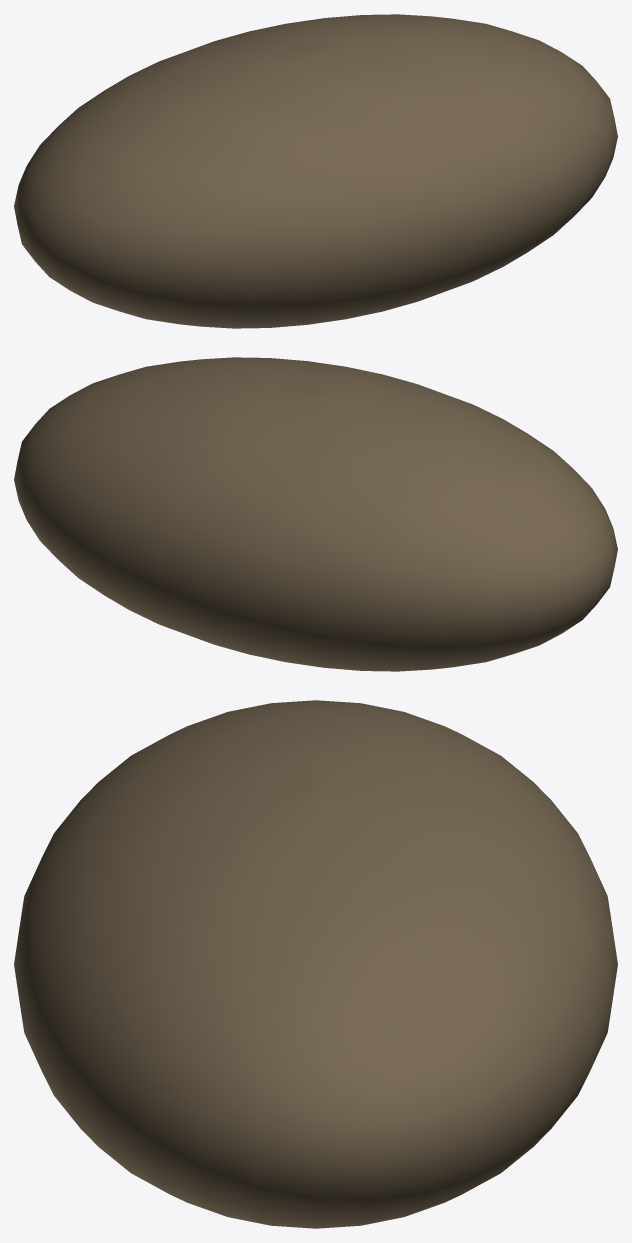
Rendered from vendor-rest.glb.
3 renders of one model, top to bottom at view 1: azimuth 30°, elevation 25°; view 2: azimuth 150°, elevation 25°; view 3: azimuth 270°, elevation 25°, orthographic. The views are drawn at different scales.
Visible parts, largest first — view 1: vendor-rest; view 2: vendor-rest; view 3: vendor-rest.
Part boxes in pixels (x1,y1,x2,y2): vendor-rest: [14, 14, 617, 328]; vendor-rest: [14, 357, 617, 671]; vendor-rest: [14, 700, 617, 1228].
Size of the model in its own units: 0.11 by 0.044 by 0.07.
